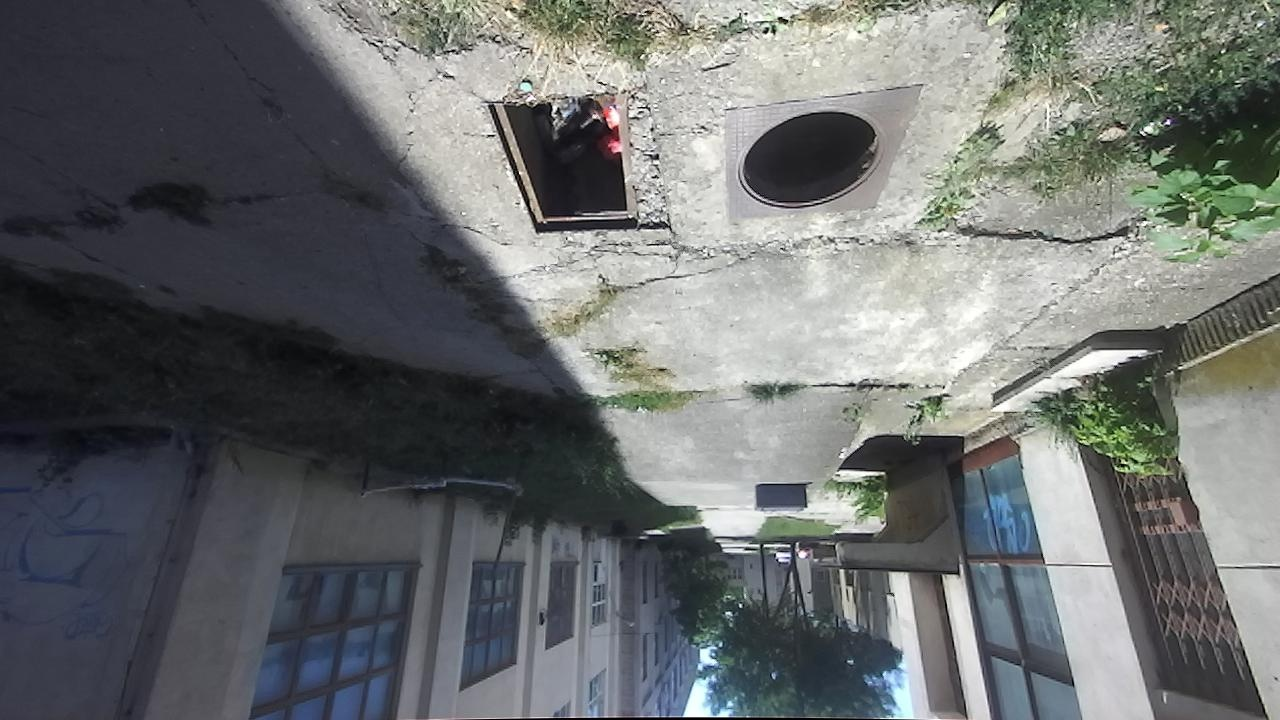drain: (478, 93, 667, 231), (738, 108, 882, 214)
